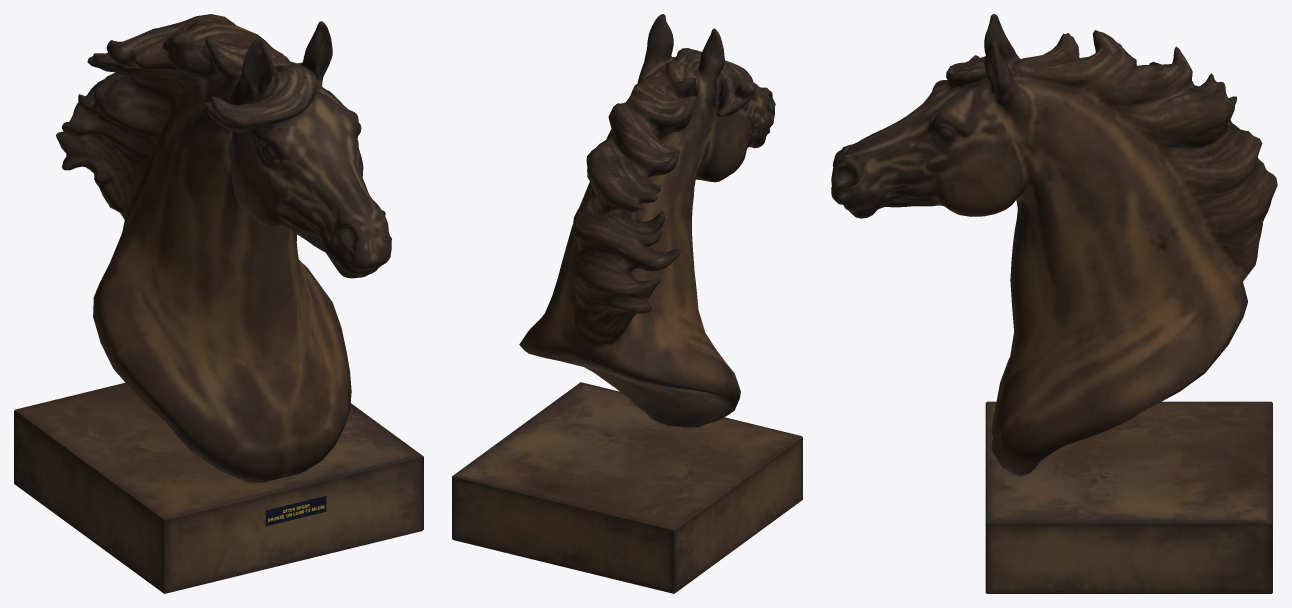
The model's file is nyb_crown_degas.glb.
The picture shows the model from 3 angles, left to right: view 1: azimuth 30°, elevation 25°; view 2: azimuth 150°, elevation 25°; view 3: azimuth 270°, elevation 25°; orthographic projection. The views are drawn at different scales.
Visible parts, largest first — view 1: horse_head, stk_lbl_279c0fe975.png; view 2: horse_head; view 3: horse_head.
Boxes of the visible parts, x1=… form: horse_head: x1=14, y1=14, x2=423, y2=593; stk_lbl_279c0fe975.png: x1=265, y1=496, x2=326, y2=526; horse_head: x1=452, y1=14, x2=802, y2=593; horse_head: x1=831, y1=14, x2=1277, y2=593.
Size of the model in its own units: 0.2149 by 0.4187 by 0.3341.
2 materials, 2 textured.
